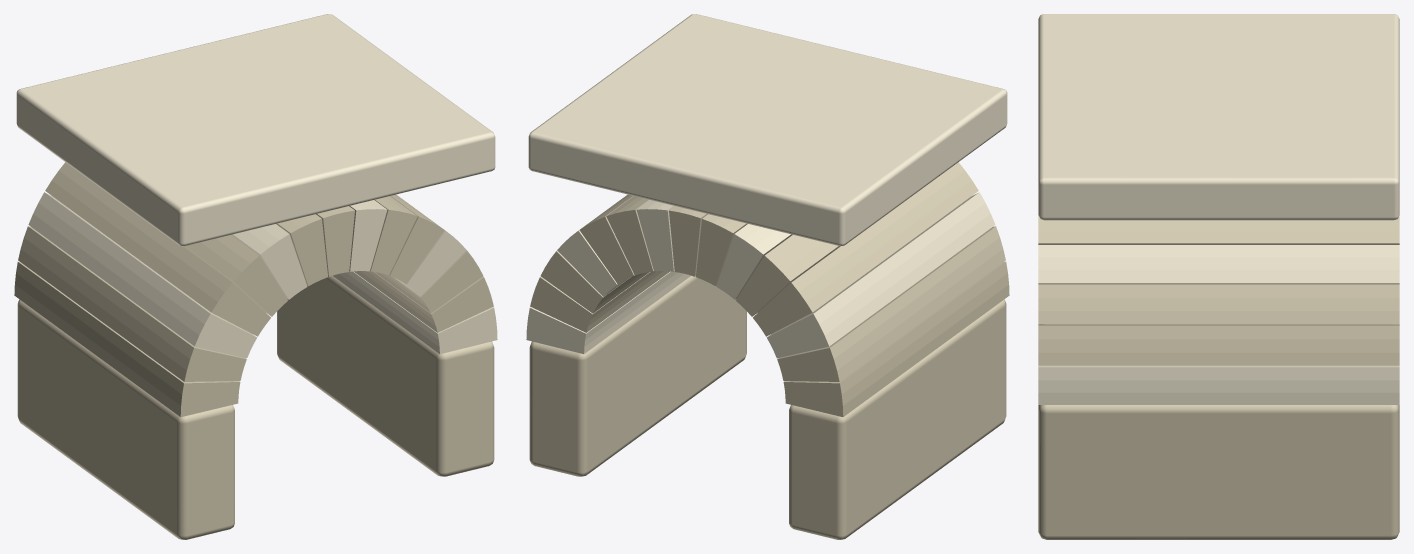
The model's file is fantasy-bathhouse-and-thermal-sanctuary-fantasy-bathho-52edd8b3__29450.glb.
3 renders of one model, left to right at view 1: azimuth 30°, elevation 25°; view 2: azimuth 150°, elevation 25°; view 3: azimuth 270°, elevation 25°, orthographic. The views are drawn at different scales.
Visible parts, largest first — view 1: fantasy-bathhouse-and-thermal-sanctuary-underfloor-heating-a (×2); view 2: fantasy-bathhouse-and-thermal-sanctuary-underfloor-heating-a (×2); view 3: fantasy-bathhouse-and-thermal-sanctuary-underfloor-heating-a (×2).
Boxes of the visible parts, x1,y1,x2,y2 form: fantasy-bathhouse-and-thermal-sanctuary-underfloor-heating-a (×2): (14, 14, 497, 539); fantasy-bathhouse-and-thermal-sanctuary-underfloor-heating-a (×2): (526, 14, 1009, 539); fantasy-bathhouse-and-thermal-sanctuary-underfloor-heating-a (×2): (1038, 14, 1399, 539).
Size of the model in its own units: 1.1 by 1.11 by 1.
